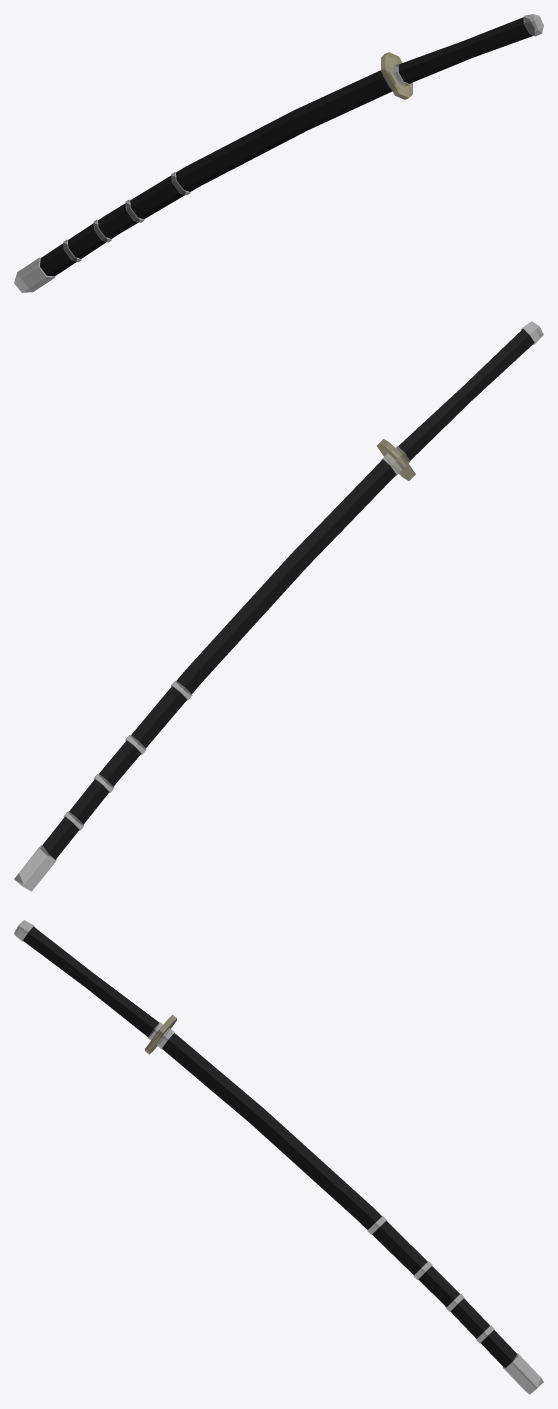
File: Sword.fbx
3 renders of one model, top to bottom at view 1: azimuth 90°, elevation 25°; view 2: azimuth 150°, elevation 25°; view 3: azimuth 270°, elevation 25°, orthographic. The views are drawn at different scales.
Visible parts, largest first — view 1: Sword.000; view 2: Sword.000; view 3: Sword.000.
Boxes of the visible parts, bbox=[...] form: Sword.000: bbox=[14, 14, 543, 292]; Sword.000: bbox=[14, 321, 543, 891]; Sword.000: bbox=[14, 920, 543, 1394].
Size of the model in its own units: 43.66 by 71.74 by 92.07.
